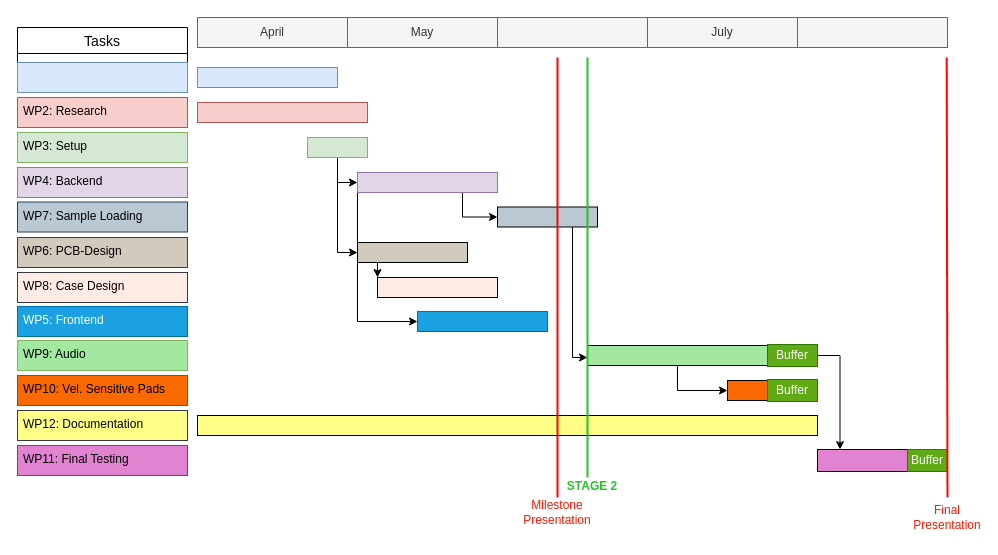
This 998x555 diagram has some shape labels left out. The centre of each missing label's shape, as x and y in pixels:
August: point (872, 32)
June: point (572, 32)
WP1: Organisation: point (102, 77)
